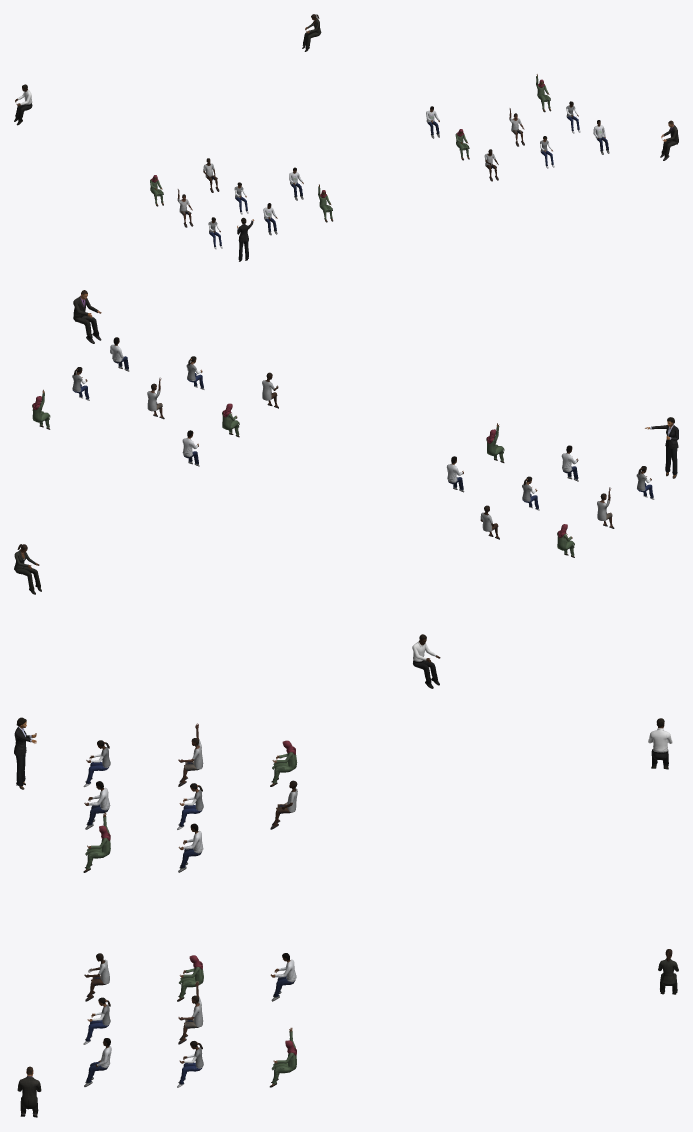
The model's file is school_people.glb.
3 renders of one model, top to bottom at view 1: azimuth 30°, elevation 25°; view 2: azimuth 150°, elevation 25°; view 3: azimuth 270°, elevation 25°, orthographic. The views are drawn at different scales.
Visible parts, largest first — view 1: school_people; view 2: school_people; view 3: school_people.
Part boxes in pixels (<box>): school_people: <box>14,14,678,261</box>; school_people: <box>14,290,678,688</box>; school_people: <box>14,717,678,1117</box>.
Bounding box in the file's own units: 20.23 × 1.89 × 15.71.
Materials: 26 (26 with a texture image).
